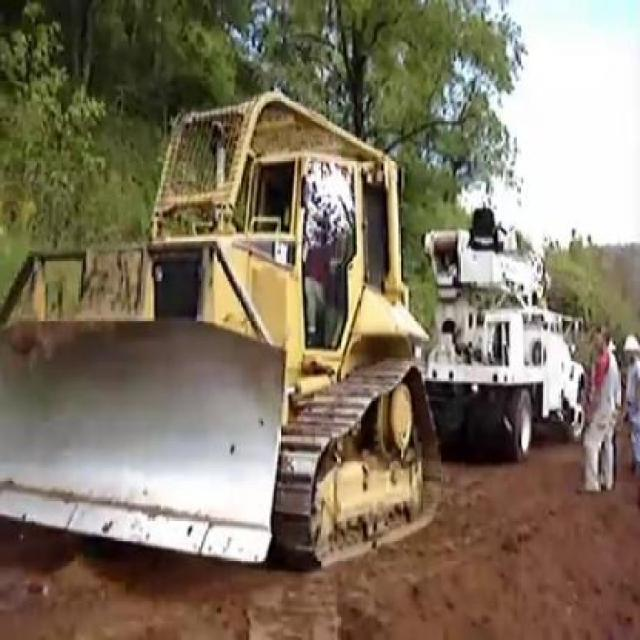Bulldozer: (1, 87, 442, 576)
Mobile Crane: (425, 198, 598, 460)
